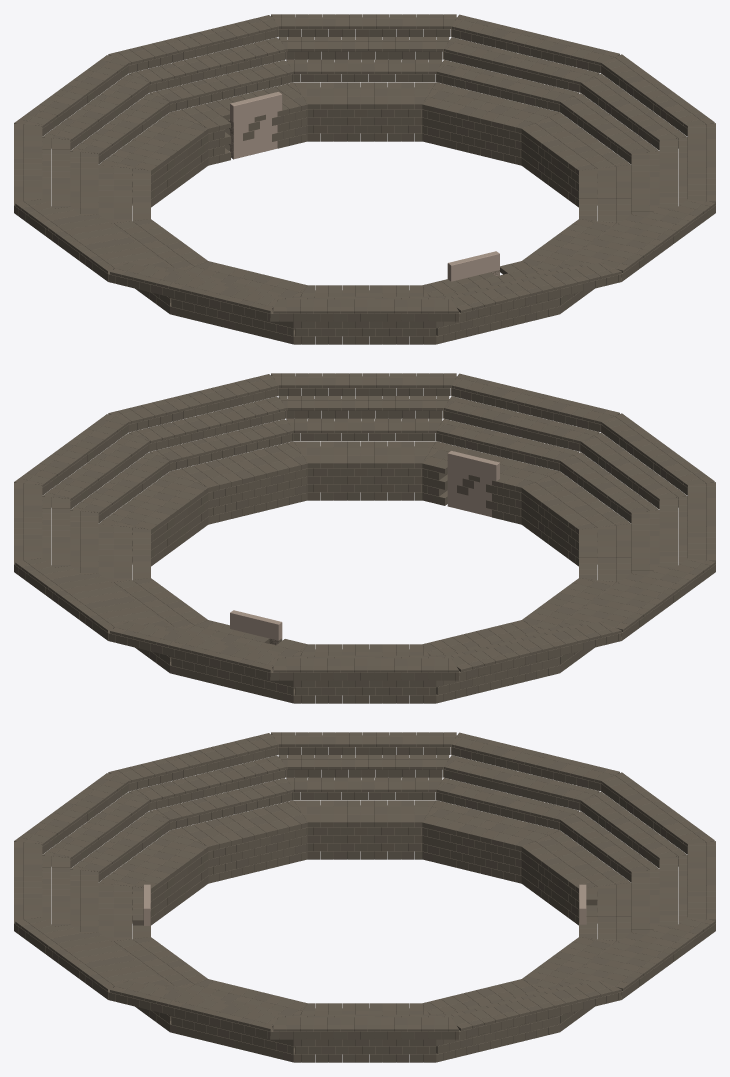
Rendered from arena_bowl.glb.
3 views of the same model, one above another, from view 1: azimuth 30°, elevation 25°; view 2: azimuth 150°, elevation 25°; view 3: azimuth 270°, elevation 25° (orthographic).
Visible parts, largest first — view 1: Bay10_stone_stand, Bay11_stone_stand, Bay09_stone_stand, Bay00_stone_stand, Bay08_stone_stand, Bay04_stone_stand, Bay01_stone_stand, Bay07_stone_stand, Bay05_stone_stand, Bay03_stone_stand, Bay06_stone_stand, Bay02_stone_stand (+2 smaller); view 2: Bay02_stone_stand, Bay01_stone_stand, Bay03_stone_stand, Bay04_stone_stand, Bay00_stone_stand, Bay08_stone_stand, Bay05_stone_stand, Bay11_stone_stand, Bay07_stone_stand, Bay09_stone_stand, Bay10_stone_stand, Bay06_stone_stand (+2 smaller); view 3: Bay06_stone_stand, Bay05_stone_stand, Bay07_stone_stand, Bay08_stone_stand, Bay04_stone_stand, Bay00_stone_stand, Bay01_stone_stand, Bay11_stone_stand, Bay09_stone_stand, Bay03_stone_stand, Bay02_stone_stand, Bay10_stone_stand.
Boxes of the visible parts, <box> form: Bay10_stone_stand: <box>271,14,456,141</box>; Bay11_stone_stand: <box>422,14,619,165</box>; Bay09_stone_stand: <box>108,15,307,165</box>; Bay00_stone_stand: <box>521,54,714,207</box>; Bay08_stone_stand: <box>14,55,208,207</box>; Bay04_stone_stand: <box>271,285,458,344</box>; Bay01_stone_stand: <box>579,123,715,223</box>; Bay07_stone_stand: <box>14,124,150,223</box>; Bay05_stone_stand: <box>108,261,307,344</box>; Bay03_stone_stand: <box>422,261,621,344</box>; Bay06_stone_stand: <box>14,199,207,313</box>; Bay02_stone_stand: <box>522,199,715,313</box>; Bay02_stone_stand: <box>271,373,456,500</box>; Bay01_stone_stand: <box>108,374,307,524</box>; Bay03_stone_stand: <box>422,373,619,524</box>; Bay04_stone_stand: <box>521,413,714,566</box>; Bay00_stone_stand: <box>14,414,208,566</box>; Bay08_stone_stand: <box>271,644,458,703</box>; Bay05_stone_stand: <box>579,482,715,582</box>; Bay11_stone_stand: <box>14,483,150,582</box>; Bay07_stone_stand: <box>422,620,621,703</box>; Bay09_stone_stand: <box>108,620,307,703</box>; Bay10_stone_stand: <box>14,558,207,672</box>; Bay06_stone_stand: <box>522,558,715,672</box>; Bay06_stone_stand: <box>271,732,456,859</box>; Bay05_stone_stand: <box>108,733,307,883</box>; Bay07_stone_stand: <box>422,732,619,883</box>; Bay08_stone_stand: <box>521,772,714,925</box>; Bay04_stone_stand: <box>14,773,208,925</box>; Bay00_stone_stand: <box>271,1003,458,1062</box>; Bay01_stone_stand: <box>108,979,307,1062</box>; Bay11_stone_stand: <box>422,979,621,1062</box>; Bay09_stone_stand: <box>579,841,715,941</box>; Bay03_stone_stand: <box>14,842,150,941</box>; Bay02_stone_stand: <box>14,917,207,1031</box>; Bay10_stone_stand: <box>522,917,715,1031</box>.
Size of the model in its own units: 27.4 by 2.98 by 27.4.
